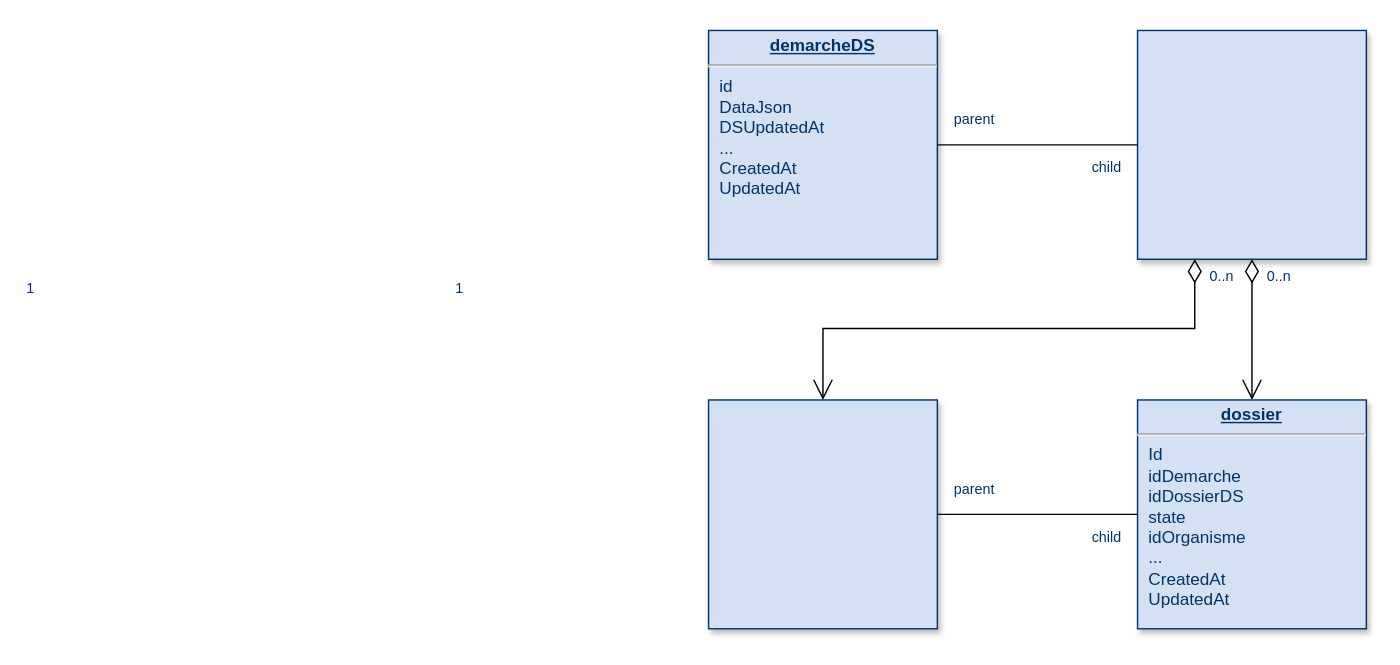
Image size: 1400x665. Some labels were removed from this diagram. Each missing label, with the centre of its shape:
demarche Id idDemarcheDS state title ... CreatedAt UpdatedAt: pixel 1252 146
dossierDS id DataJson idDemarcheDS DSUpdatedAt ... CreatedAt UpdatedAt: pixel 823 516
